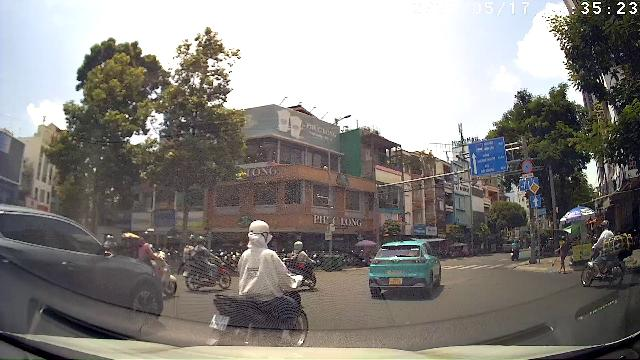131a-cam-do-xe: (522, 160, 533, 173)
